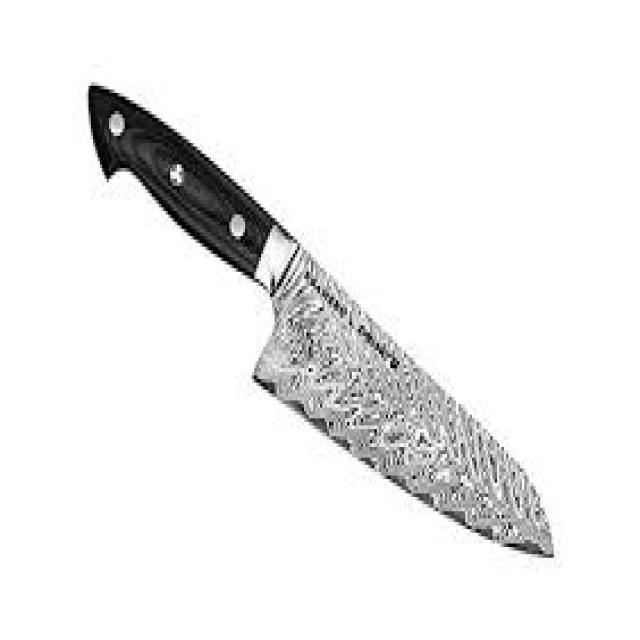Knife: (86, 82, 556, 554)
